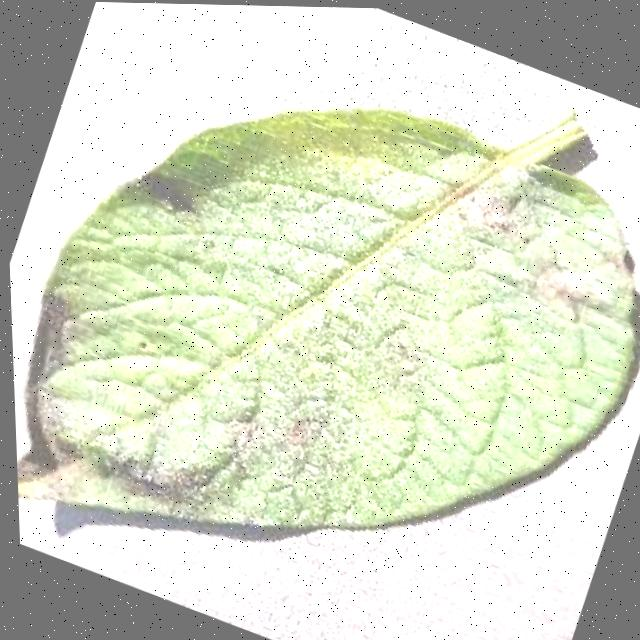Late_blight: (399, 145, 640, 340), (169, 344, 370, 511), (14, 384, 225, 542), (269, 275, 464, 426)
